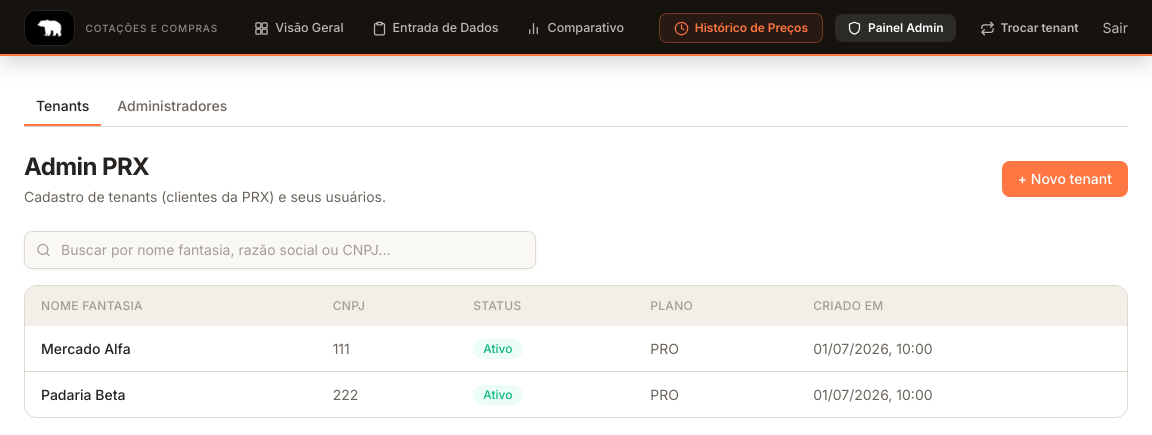
Test: AdminPage — busca › filtra por nome fantasia, razão social ou CNPJ (case-insensitive)
Expected: the text "Mercado Alfa" is shown, [25, 326, 317, 372]
Type "beta" into the field with placeholder "Buscar por nome fantasia, razão social ou CNPJ..." at (280, 250), box [24, 231, 536, 269]
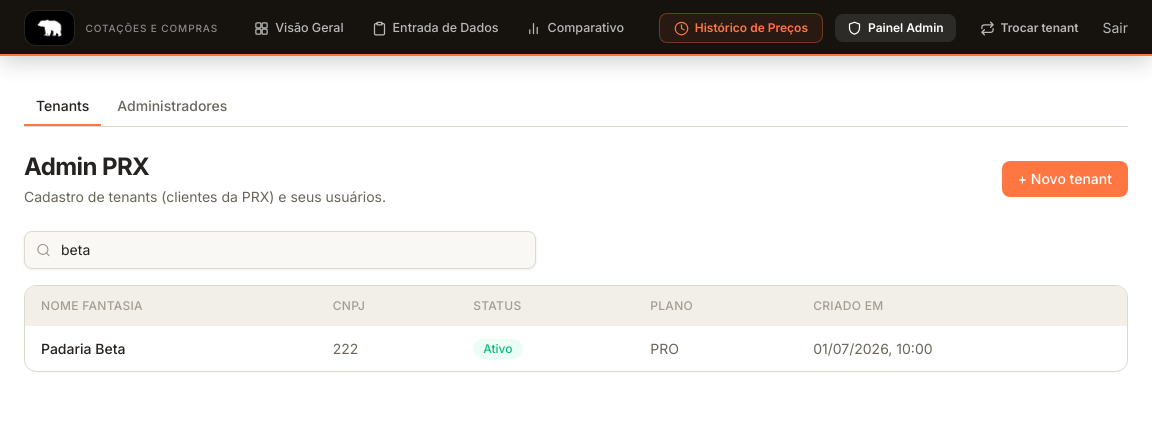
Expected: the text "Padaria Beta" is shown, [25, 326, 317, 371]
Expected: the text "Mercado Alfa" is gone
